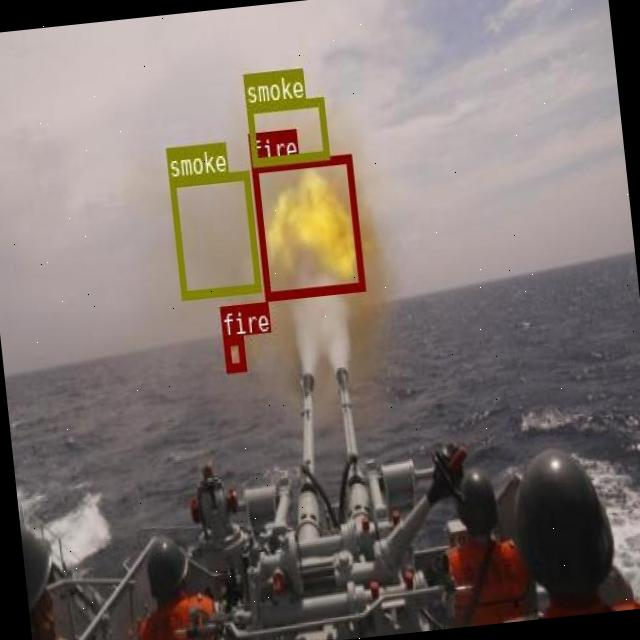fire: (250, 153, 364, 299), (222, 334, 246, 371)
smoke: (168, 168, 260, 296), (246, 96, 329, 166)
